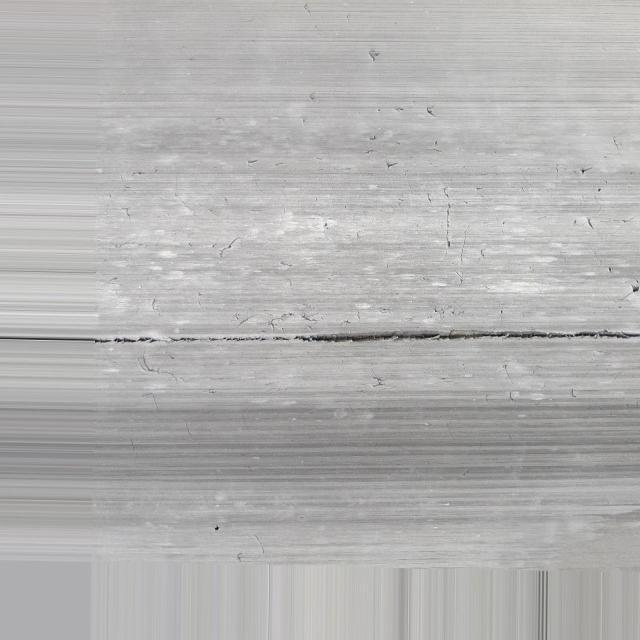Puncture: (364, 46, 382, 64), (423, 102, 438, 122), (386, 162, 396, 172), (580, 167, 592, 175), (632, 285, 639, 293), (607, 268, 612, 272)
Tear: (92, 323, 640, 346)
